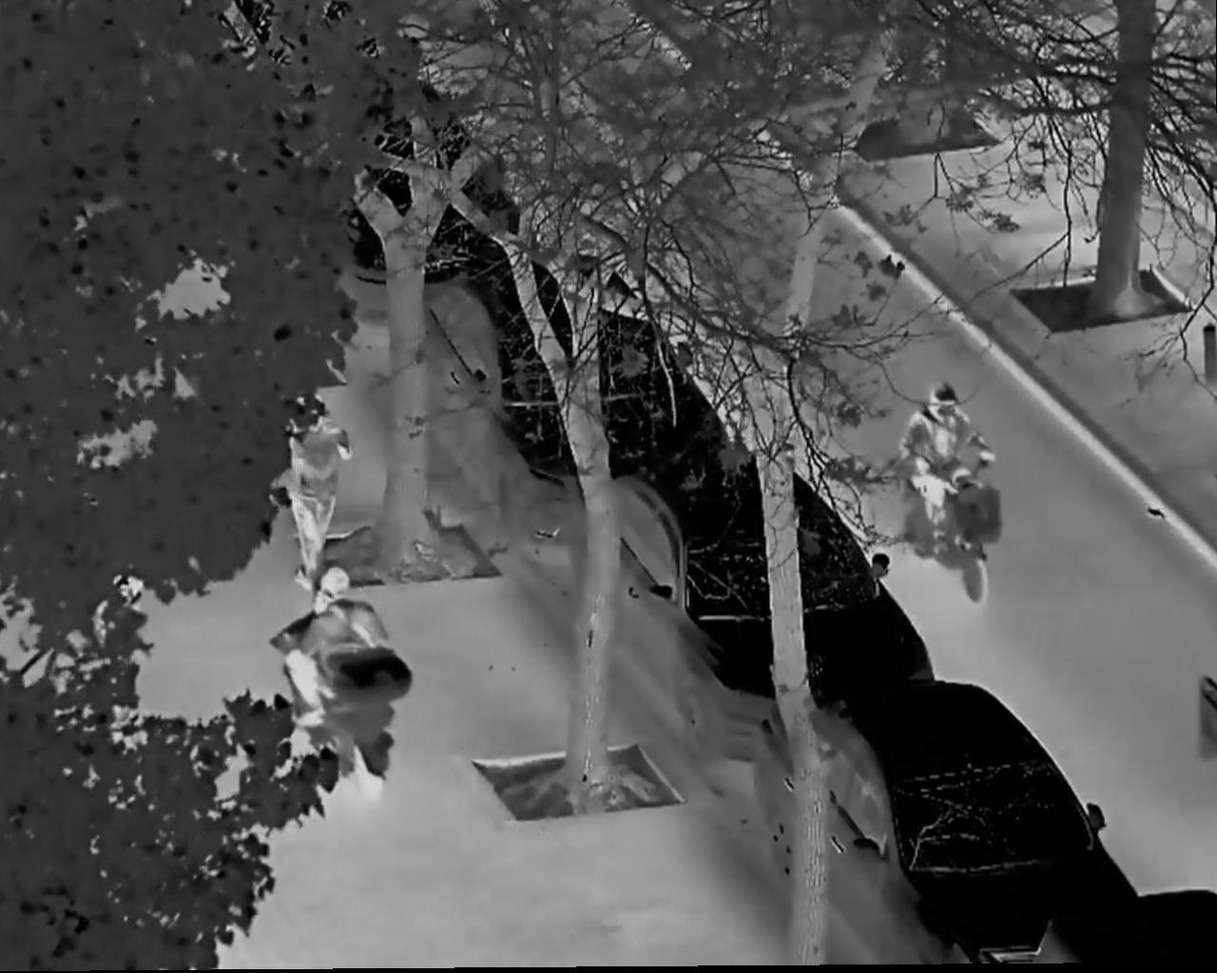person: (287, 566, 396, 752), (895, 387, 995, 543), (279, 396, 353, 586)
